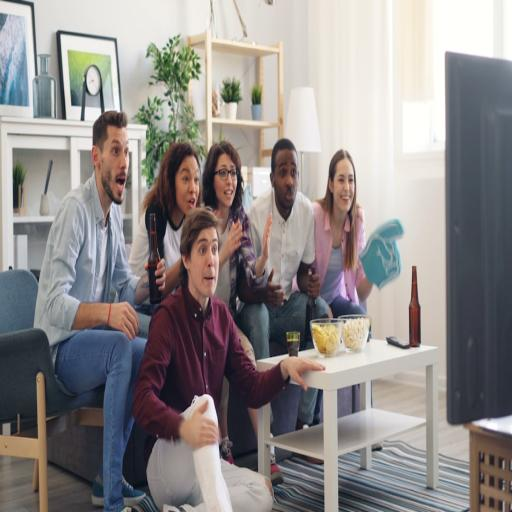face: (106, 123, 132, 203), (194, 232, 219, 296), (276, 154, 298, 208), (176, 159, 198, 212), (218, 158, 238, 206), (334, 168, 356, 210)
